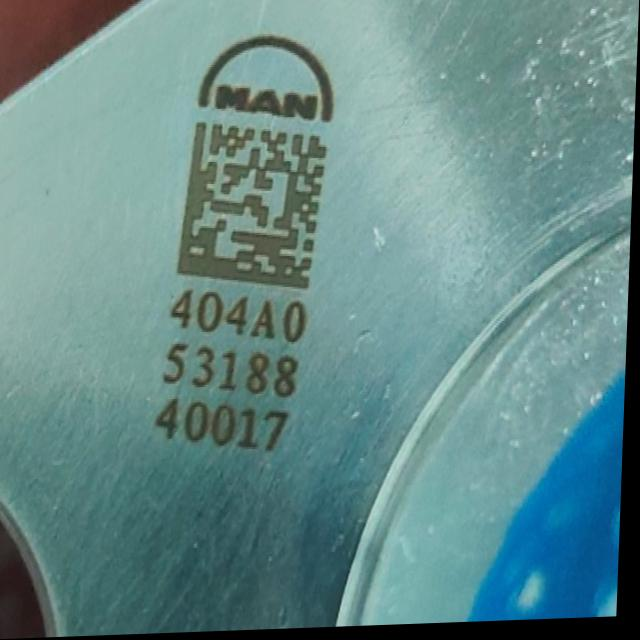dmc: (179, 123, 329, 292)
